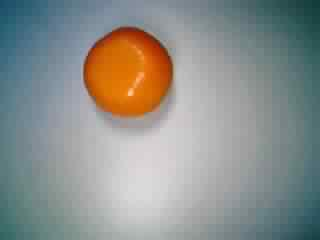orange: (77, 24, 173, 120)
